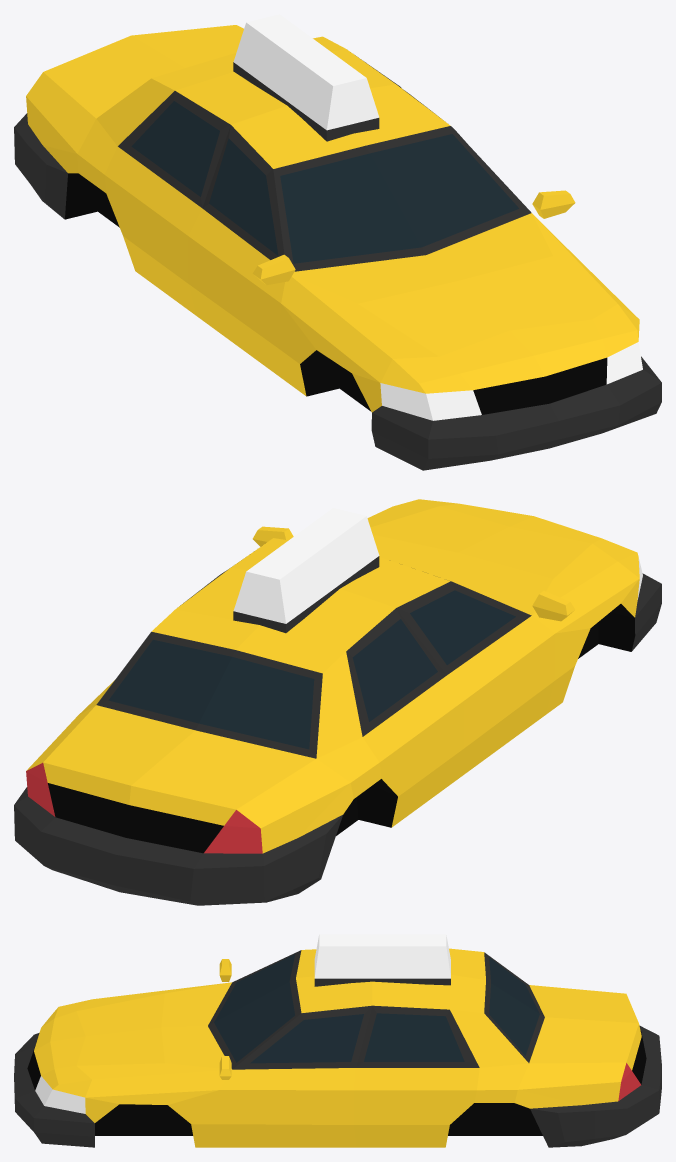
File: car-taxi-base.glb
3 renders of one model, top to bottom at view 1: azimuth 30°, elevation 25°; view 2: azimuth 150°, elevation 25°; view 3: azimuth 270°, elevation 25°, orthographic. The views are drawn at different scales.
Parts seen in each view (by area): view 1: car-taxi-base; view 2: car-taxi-base; view 3: car-taxi-base.
Boxes of the visible parts, bbox=[...] form: car-taxi-base: bbox=[14, 14, 661, 470]; car-taxi-base: bbox=[14, 499, 661, 905]; car-taxi-base: bbox=[14, 934, 661, 1147].
Bounding box in the file's own units: 2.19 × 1.47 × 5.35.
Materials: 1 (1 with a texture image).
